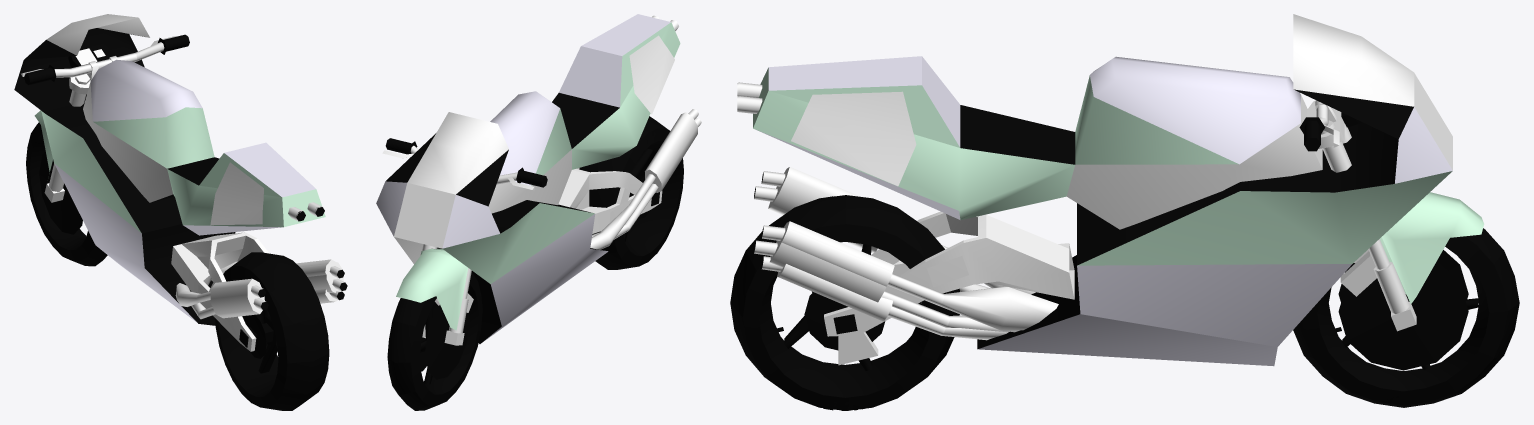
Rendered from nrg.glb.
3 views of the same model, side by side, from view 1: azimuth 30°, elevation 25°; view 2: azimuth 150°, elevation 25°; view 3: azimuth 270°, elevation 25° (orthographic). The views are drawn at different scales.
Parts seen in each view (by area): view 1: chassis_vlo, wheel_rear, forks_rear, wheel_front, extra3, handlebars, extra2, forks_front, mudguard, extra1; view 2: chassis_vlo, wheel_front, wheel_rear, mudguard, extra3, forks_rear, handlebars; view 3: chassis_vlo, wheel_front, wheel_rear, forks_rear, extra2, mudguard, extra1, extra3, forks_front, handlebars.
Boxes of the visible parts, <box> form: chassis_vlo: <box>14,14,325,325</box>; wheel_rear: <box>215,252,329,410</box>; forks_rear: <box>171,232,273,351</box>; wheel_front: <box>26,122,107,266</box>; extra3: <box>175,278,268,319</box>; handlebars: <box>21,34,189,84</box>; extra2: <box>211,206,347,292</box>; forks_front: <box>68,44,112,106</box>; mudguard: <box>34,110,64,202</box>; extra1: <box>288,202,344,303</box>; chassis_vlo: <box>376,14,680,343</box>; wheel_front: <box>387,272,482,410</box>; wheel_rear: <box>579,116,683,269</box>; mudguard: <box>396,248,473,345</box>; extra3: <box>590,109,701,249</box>; forks_rear: <box>558,168,662,233</box>; handlebars: <box>382,138,547,190</box>; chassis_vlo: <box>753,14,1452,366</box>; wheel_front: <box>1293,228,1519,407</box>; wheel_rear: <box>730,195,959,410</box>; forks_rear: <box>824,211,1074,365</box>; extra2: <box>737,83,1058,332</box>; mudguard: <box>1340,192,1484,331</box>; extra1: <box>738,82,1007,340</box>; extra3: <box>754,167,1035,294</box>; forks_front: <box>1307,100,1362,172</box>; handlebars: <box>1299,100,1339,151</box>.
Bounding box in the file's own units: 0.7654 × 1.22 × 2.32.
